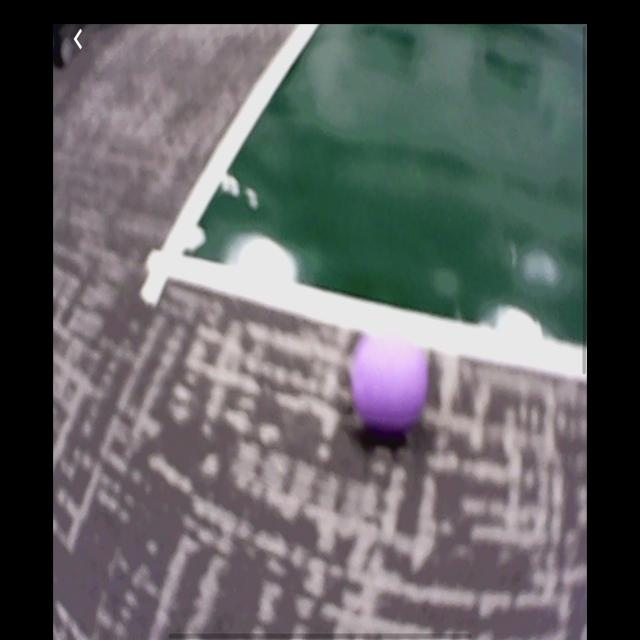ball: (349, 333, 431, 435)
